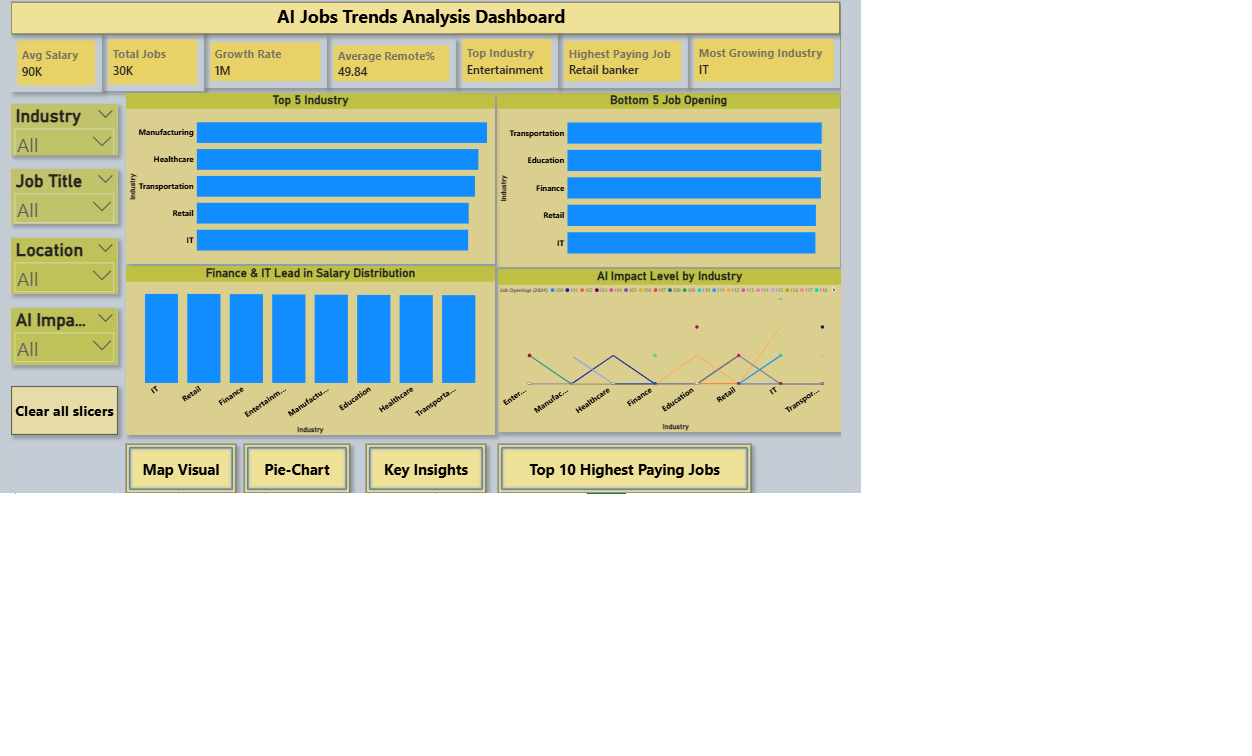

The page's visual inventory and layout, read from the dashboard file:
{"tool":"powerbi","page":{"name":"dashboard","canvas":[2250,1350],"ordinal":0},"visuals":[{"type":"cardVisual","fields":{"Data":["ai_job_trends_dataset$FilterDatabase.Avg Salary"]},"box":[0,105.7,246.7,157.2],"z":0},{"type":"textbox","box":[0,18.1,2247,87.3],"z":1000},{"type":"cardVisual","fields":{"Data":["ai_job_trends_dataset$FilterDatabase.Total Jobs"]},"box":[246.7,103,276.5,157.2],"z":2000},{"type":"cardVisual","fields":{"Data":["ai_job_trends_dataset$FilterDatabase.Growth Rate"]},"box":[523.2,111.1,333.4,141],"z":3000},{"type":"cardVisual","fields":{"Data":["ai_job_trends_dataset$FilterDatabase.Average Remote%"]},"box":[856.6,119.3,349.7,132.8],"z":4000},{"type":"barChart","title":"Top 5  Industry","fields":{"Category":["ai_job_trends_dataset$FilterDatabase.Industry"],"Y":["Sum(ai_job_trends_dataset$FilterDatabase.Job Openings (2024))"]},"box":[313,265,1000,463],"z":5000},{"type":"barChart","title":"Bottom 5 Job Opening","fields":{"Category":["ai_job_trends_dataset$FilterDatabase.Industry"],"Y":["Sum(ai_job_trends_dataset$FilterDatabase.Job Openings (2024))"]},"box":[1317.5,265.7,929.8,471.7],"z":6000},{"type":"clusteredColumnChart","title":"Finance & IT Lead in Salary Distribution","fields":{"Category":["ai_job_trends_dataset$FilterDatabase.Industry"],"Y":["ai_job_trends_dataset$FilterDatabase.Avg Salary"]},"box":[313,735,1000,458],"z":7000},{"type":"lineChart","title":" AI Impact Level by Industry ","fields":{"Category":["ai_job_trends_dataset$FilterDatabase.Industry"],"Y":["CountNonNull(ai_job_trends_dataset$FilterDatabase.AI Impact Level)"],"Series":["ai_job_trends_dataset$FilterDatabase.Job Openings (2024)"]},"box":[1320.2,742.8,929.8,441.9],"z":8000},{"type":"actionButton","box":[311.8,1217.2,298.2,132.8],"z":9000},{"type":"slicer","fields":{"Values":["ai_job_trends_dataset$FilterDatabase.Industry"]},"box":[0,295.2,289.2,138.6],"z":10000},{"type":"slicer","fields":{"Values":["ai_job_trends_dataset$FilterDatabase.Job Title"]},"box":[0,472.9,289.2,147.6],"z":11000},{"type":"slicer","fields":{"Values":["ai_job_trends_dataset$FilterDatabase.Location"]},"box":[0,659.6,289.2,150.6],"z":12000},{"type":"slicer","fields":{"Values":["ai_job_trends_dataset$FilterDatabase.AI Impact Level"]},"box":[0,849.4,289.2,153.6],"z":13000},{"type":"actionButton","box":[0,1059.9,290.1,132.8],"z":14000},{"type":"actionButton","box":[631.6,1217.2,287.4,132.8],"z":15000},{"type":"actionButton","box":[962.4,1217.2,325.3,132.8],"z":16000},{"type":"cardVisual","fields":{"Data":["ai_job_trends_dataset$FilterDatabase.Top Industry"]},"box":[1206.3,103,276.5,149.1],"z":17000},{"type":"cardVisual","fields":{"Data":["ai_job_trends_dataset$FilterDatabase.Highest Paying Job"]},"box":[1482.8,108.4,352.4,143.7],"z":18000},{"type":"cardVisual","fields":{"Data":["ai_job_trends_dataset$FilterDatabase.Most Growing Industry"]},"box":[1835.2,103,412.1,149.1],"z":19000},{"type":"actionButton","box":[1320.2,1217.2,685.8,132.8],"z":20000}]}

Visuals, with their boxes in screenshot pixels (x1, y1, x2, y2), scaled from the page's 2250x1350 canvas onto the 1252x756 screenshot:
cardVisual - ai_job_trends_dataset$FilterDatabase.Avg Salary: 0, 59, 137, 147
textbox: 0, 10, 1250, 59
cardVisual - ai_job_trends_dataset$FilterDatabase.Total Jobs: 137, 58, 291, 146
cardVisual - ai_job_trends_dataset$FilterDatabase.Growth Rate: 291, 62, 477, 141
cardVisual - ai_job_trends_dataset$FilterDatabase.Average Remote%: 477, 67, 671, 141
"Top 5  Industry" barChart: 174, 148, 731, 408
"Bottom 5 Job Opening" barChart: 733, 149, 1250, 413
"Finance & IT Lead in Salary Distribution" clusteredColumnChart: 174, 412, 731, 668
" AI Impact Level by Industry " lineChart: 735, 416, 1251, 663
actionButton: 173, 682, 339, 755
slicer - ai_job_trends_dataset$FilterDatabase.Industry: 0, 165, 161, 243
slicer - ai_job_trends_dataset$FilterDatabase.Job Title: 0, 265, 161, 347
slicer - ai_job_trends_dataset$FilterDatabase.Location: 0, 369, 161, 454
slicer - ai_job_trends_dataset$FilterDatabase.AI Impact Level: 0, 476, 161, 562
actionButton: 0, 594, 161, 668
actionButton: 351, 682, 511, 755
actionButton: 536, 682, 717, 755
cardVisual - ai_job_trends_dataset$FilterDatabase.Top Industry: 671, 58, 825, 141
cardVisual - ai_job_trends_dataset$FilterDatabase.Highest Paying Job: 825, 61, 1021, 141
cardVisual - ai_job_trends_dataset$FilterDatabase.Most Growing Industry: 1021, 58, 1250, 141
actionButton: 735, 682, 1116, 755
